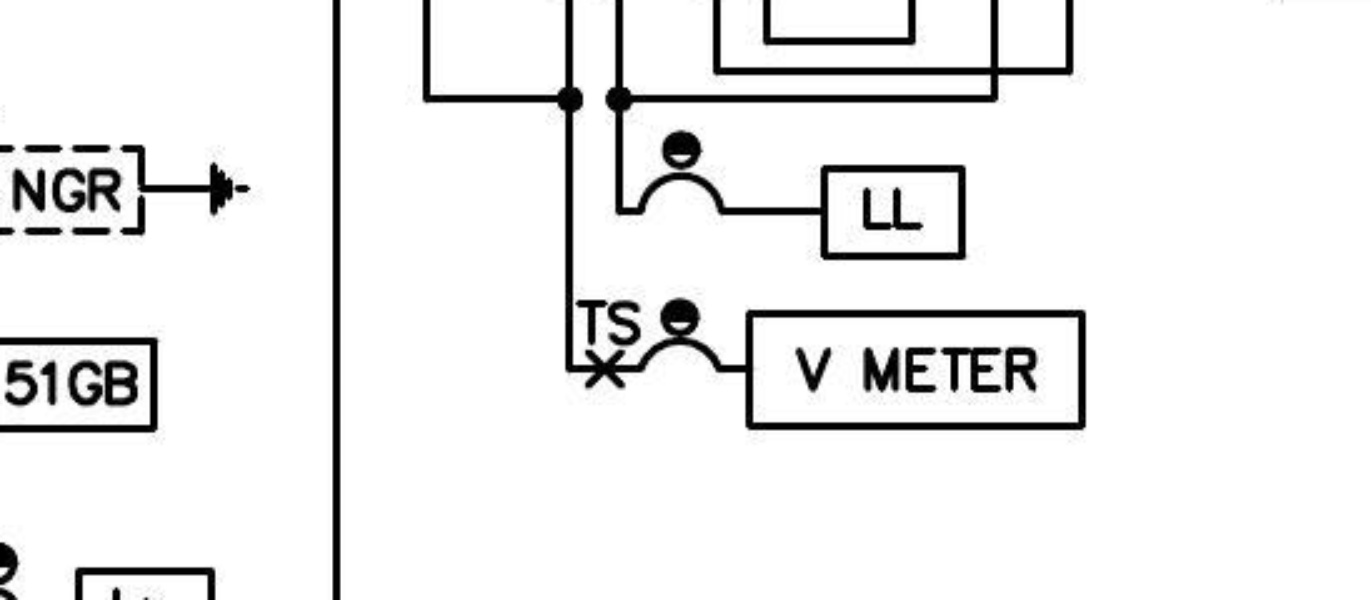LL: (819, 162, 968, 264)
v_m_digital: (742, 308, 1088, 433)
